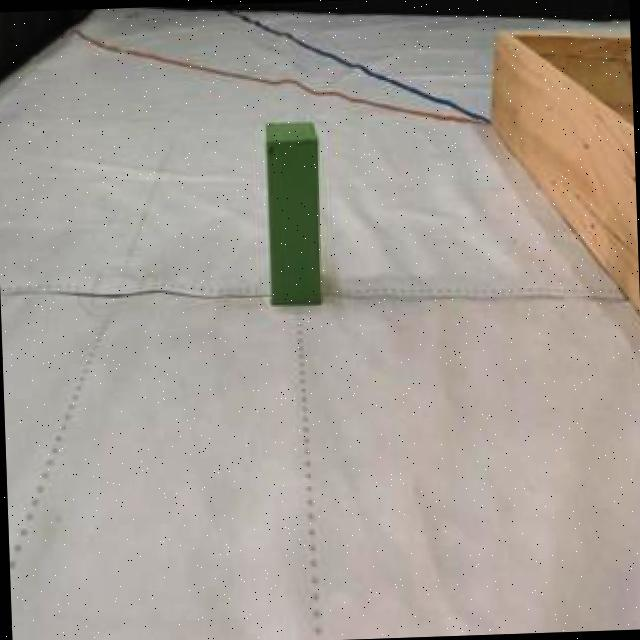greenbox: (264, 117, 324, 306)
